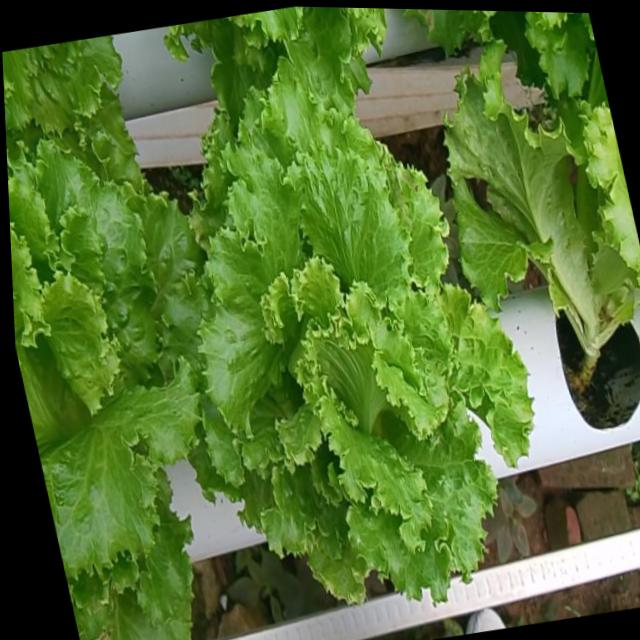Mature: (189, 89, 535, 617), (8, 148, 205, 596)
